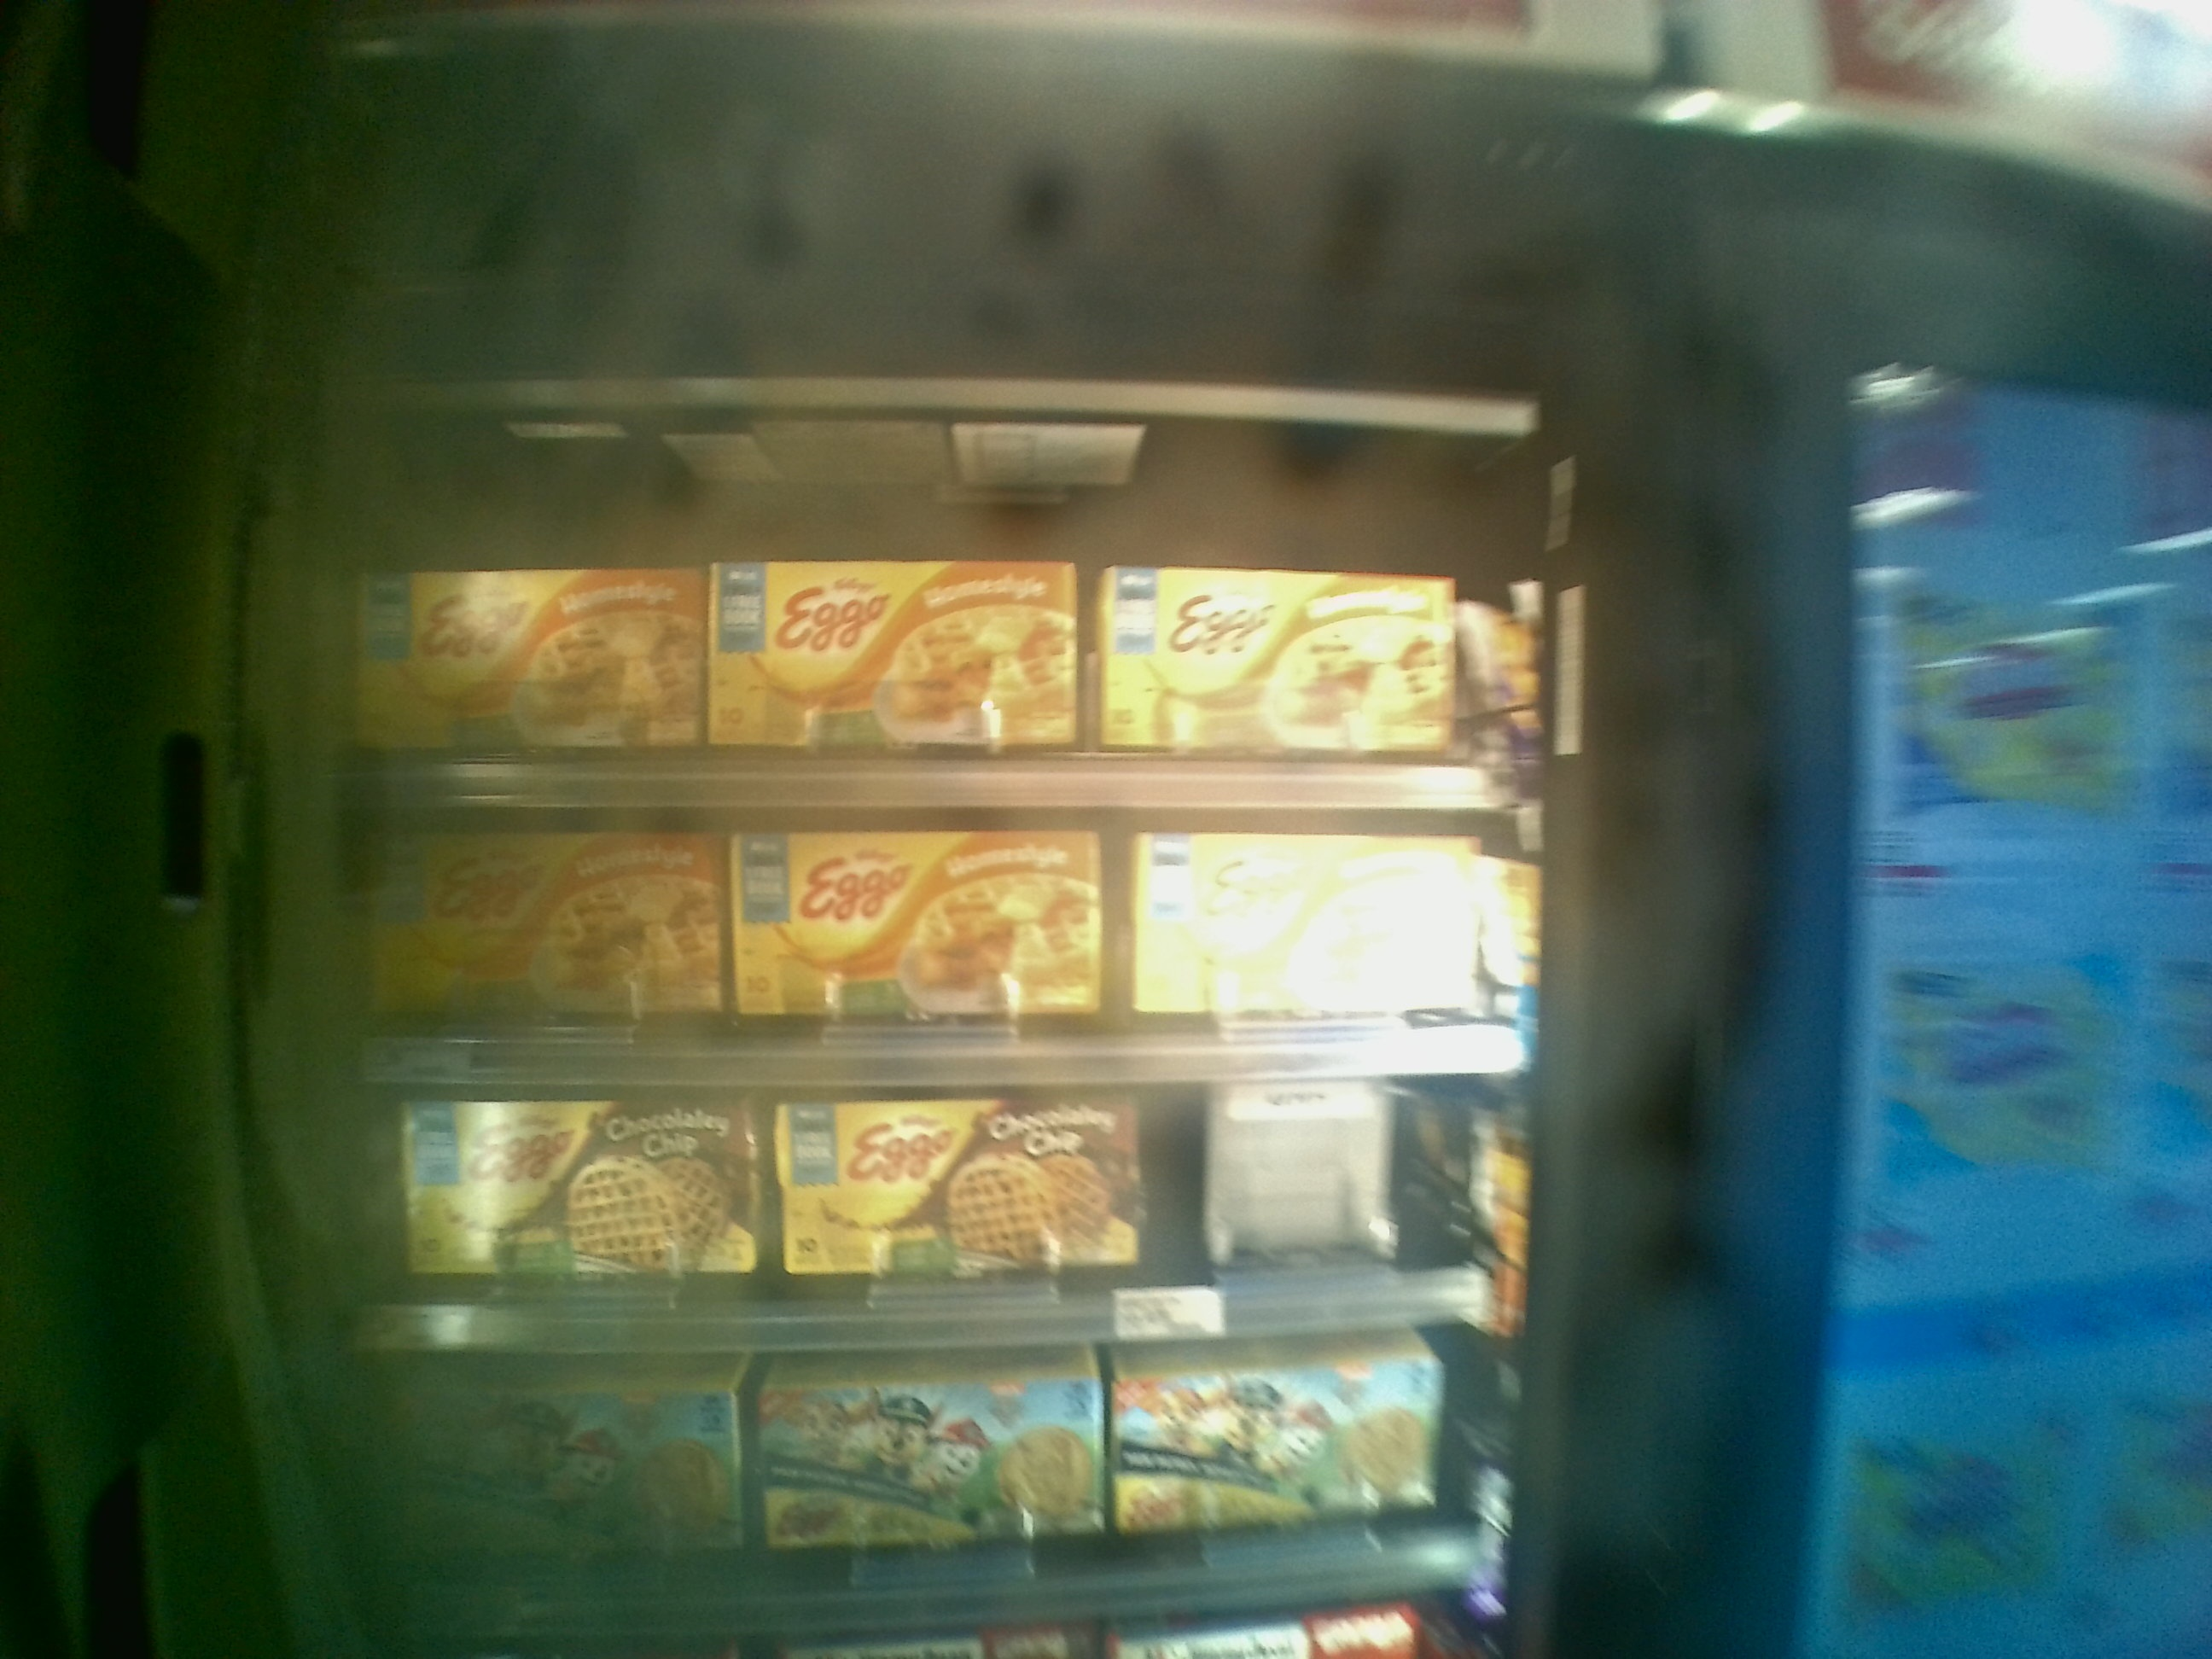shelf: (341, 481, 1515, 809), (343, 807, 1526, 1080), (347, 1089, 1548, 1349)
